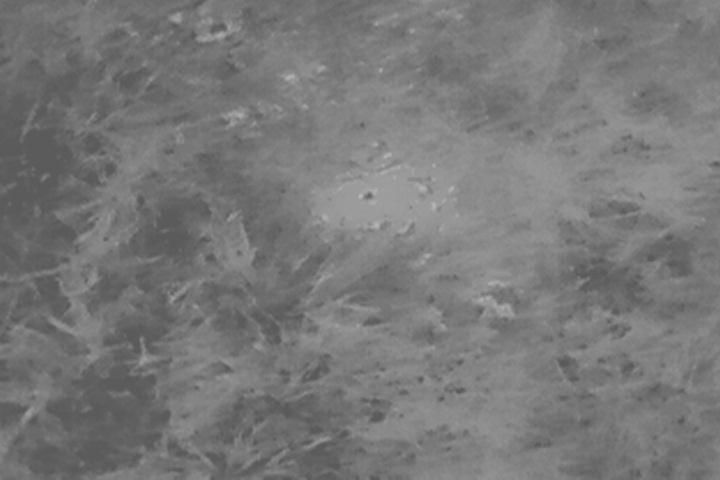landmine: (335, 170, 409, 227)
